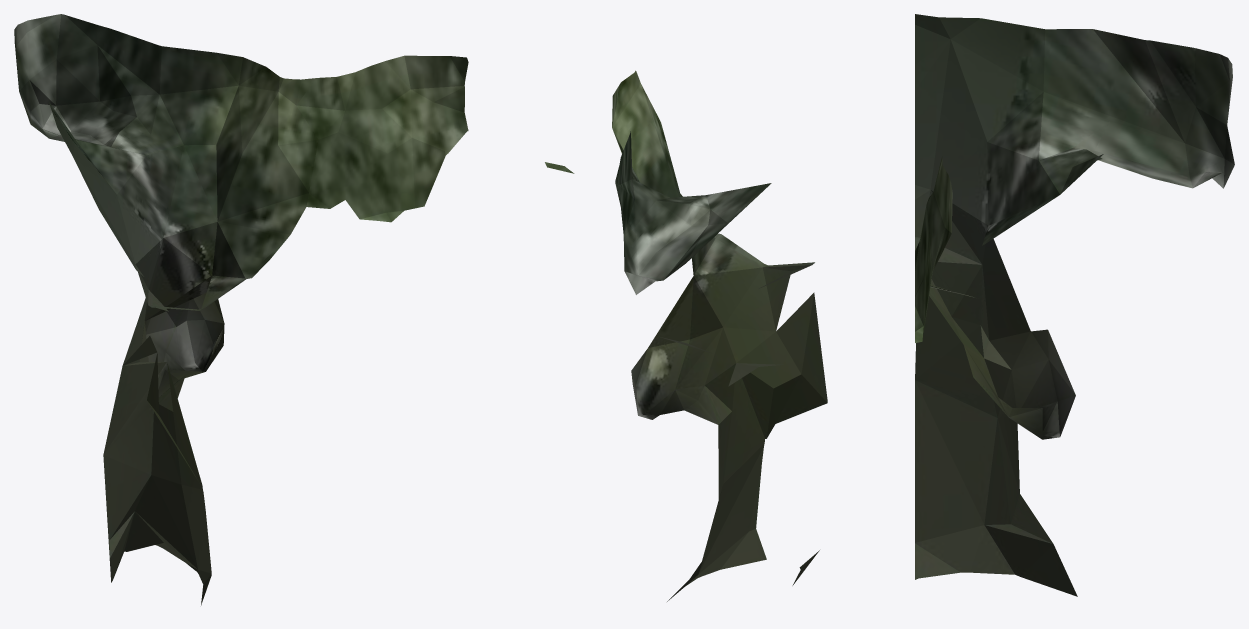
3 renders of one model, left to right at view 1: azimuth 30°, elevation 25°; view 2: azimuth 150°, elevation 25°; view 3: azimuth 270°, elevation 25°, orthographic. The views are drawn at different scales.
Bounding box in the file's own units: 2.48 × 2.95 × 1.64.
2 materials, 2 textured.
